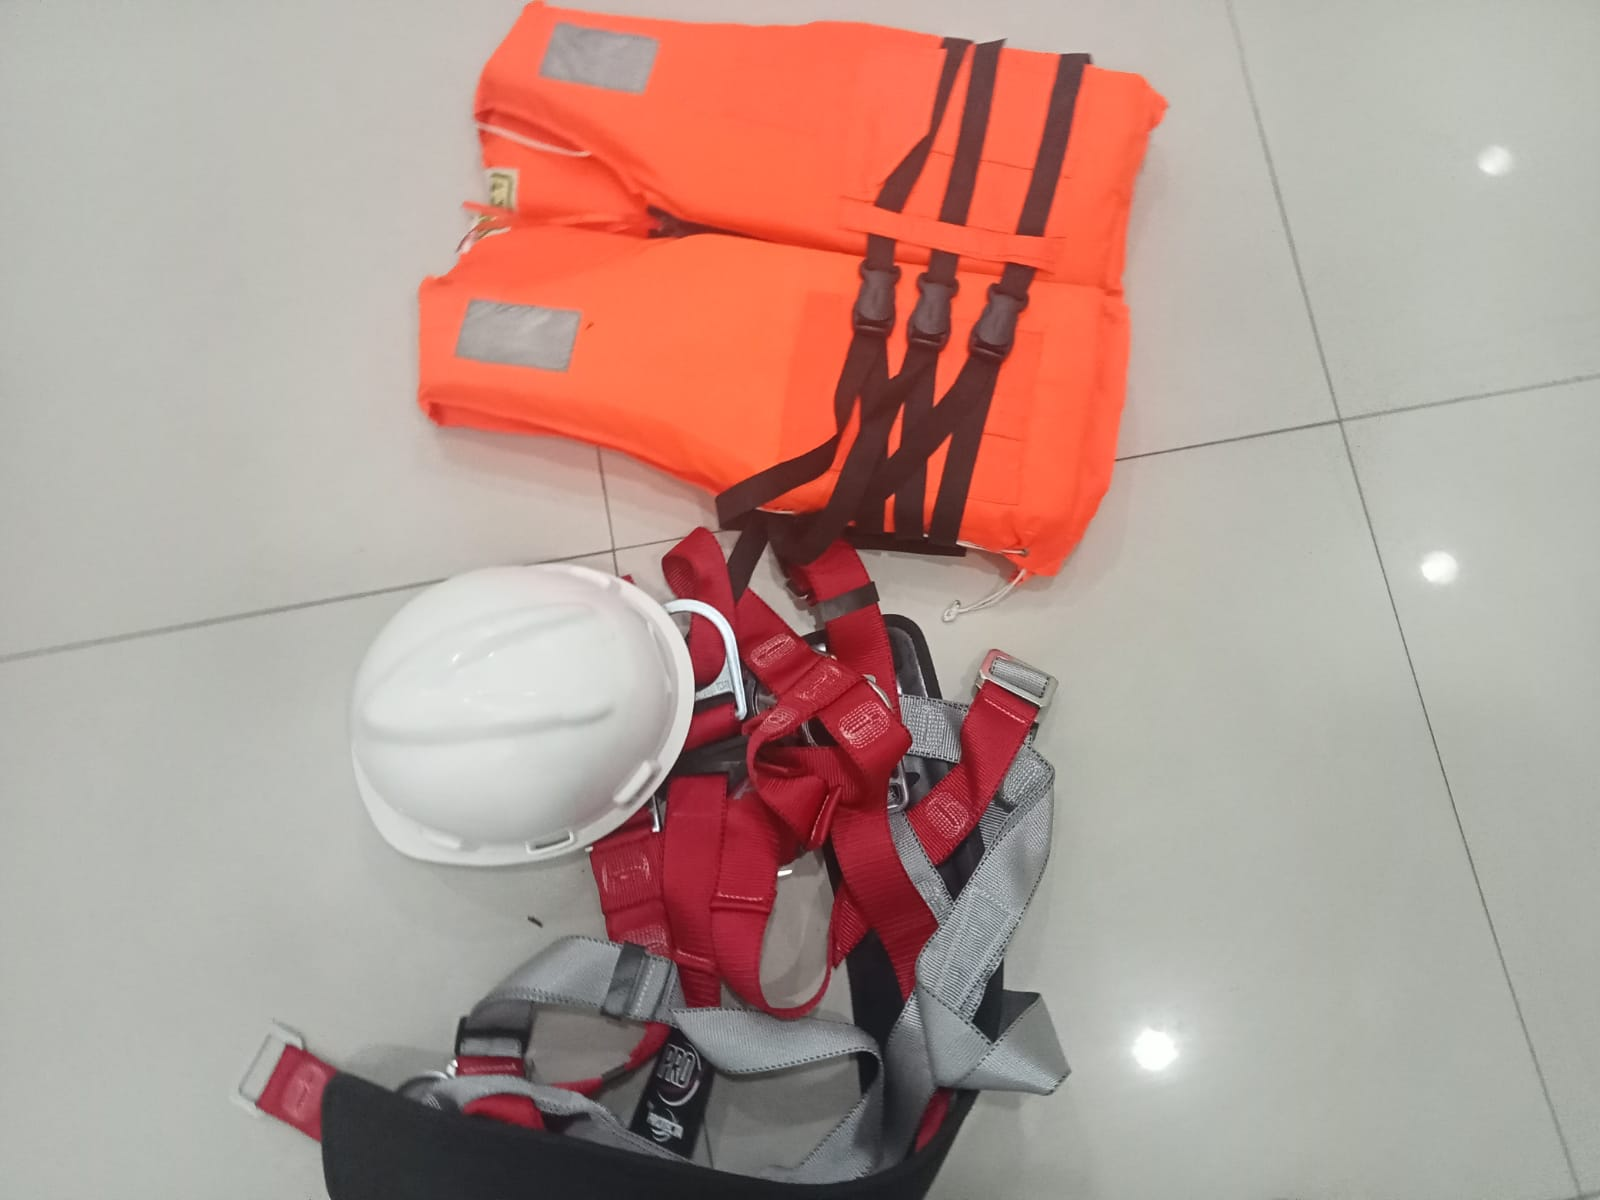HELM: (351, 579, 661, 841)
ROMPI: (451, 25, 1126, 476)
